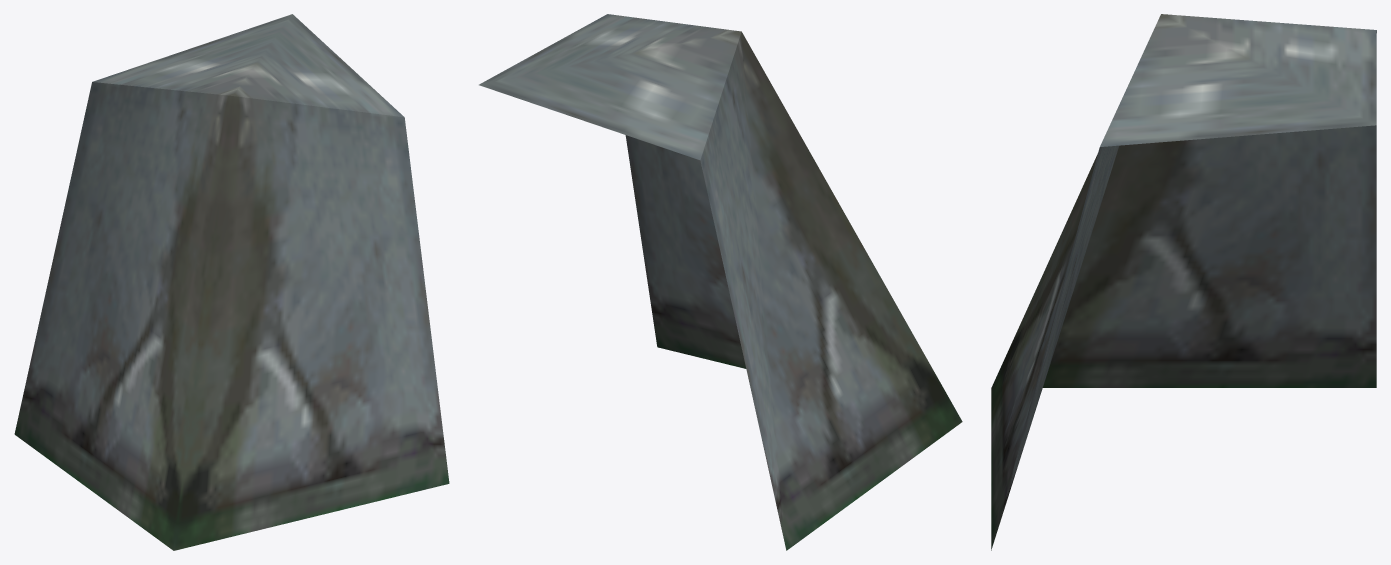
The model's file is stemple_cap_convex_01.fbx.
3 views of the same model, side by side, from view 1: azimuth 30°, elevation 25°; view 2: azimuth 150°, elevation 25°; view 3: azimuth 270°, elevation 25° (orthographic). The views are drawn at different scales.
Parts seen in each view (by area): view 1: sunken_tileset/sunken_quarter01_mat; view 2: sunken_tileset/sunken_quarter01_mat; view 3: sunken_tileset/sunken_quarter01_mat.
Part boxes in pixels (x1,y1,x2,y2): sunken_tileset/sunken_quarter01_mat: [14, 14, 449, 550]; sunken_tileset/sunken_quarter01_mat: [479, 14, 962, 550]; sunken_tileset/sunken_quarter01_mat: [991, 14, 1376, 550].
Size of the model in its own units: 0.4164 by 0.5324 by 0.4131.
